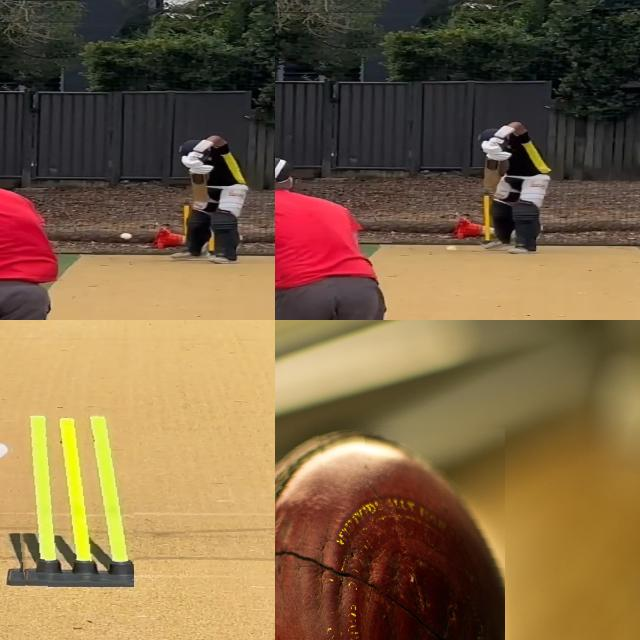Cricket ball: (275, 421, 505, 640), (444, 244, 458, 252), (120, 233, 133, 239)
Stumps: (7, 412, 134, 587)
